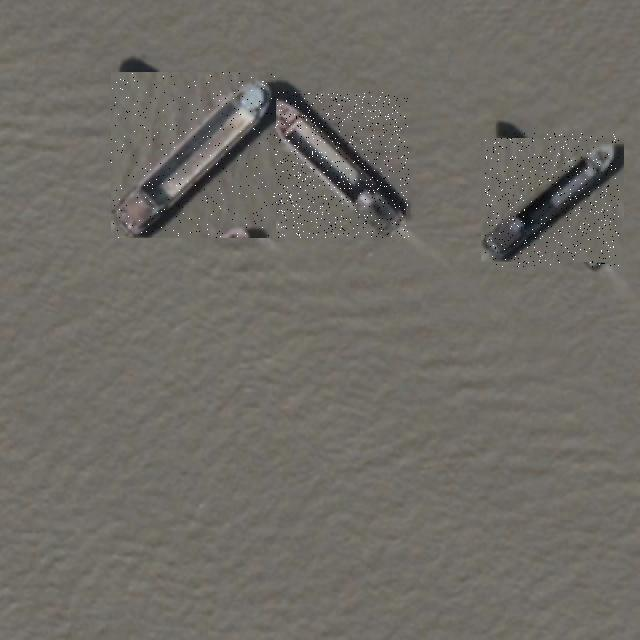boat: (110, 72, 276, 238), (258, 92, 410, 238), (485, 133, 619, 267)
